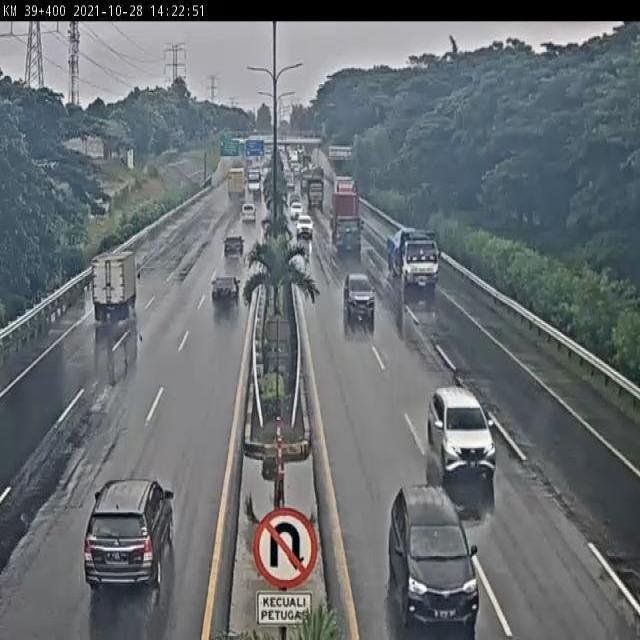car: (83, 476, 176, 589)
truck: (90, 249, 142, 320), (388, 228, 443, 295), (332, 192, 366, 251)
